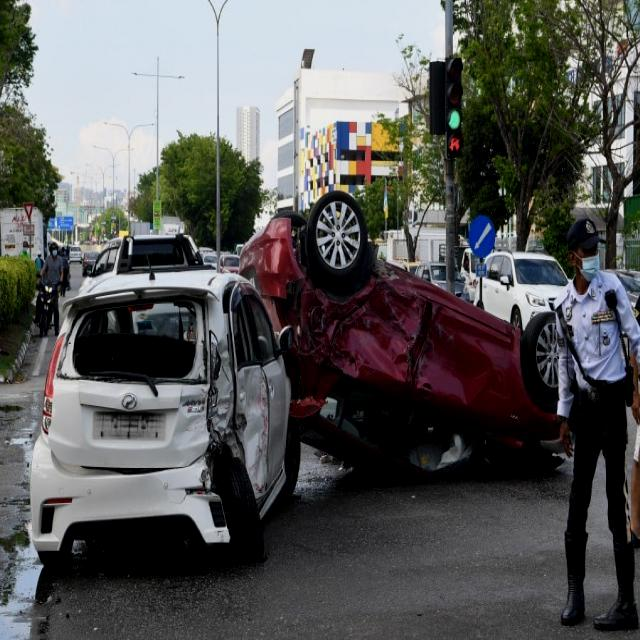accident: (28, 190, 580, 576)
